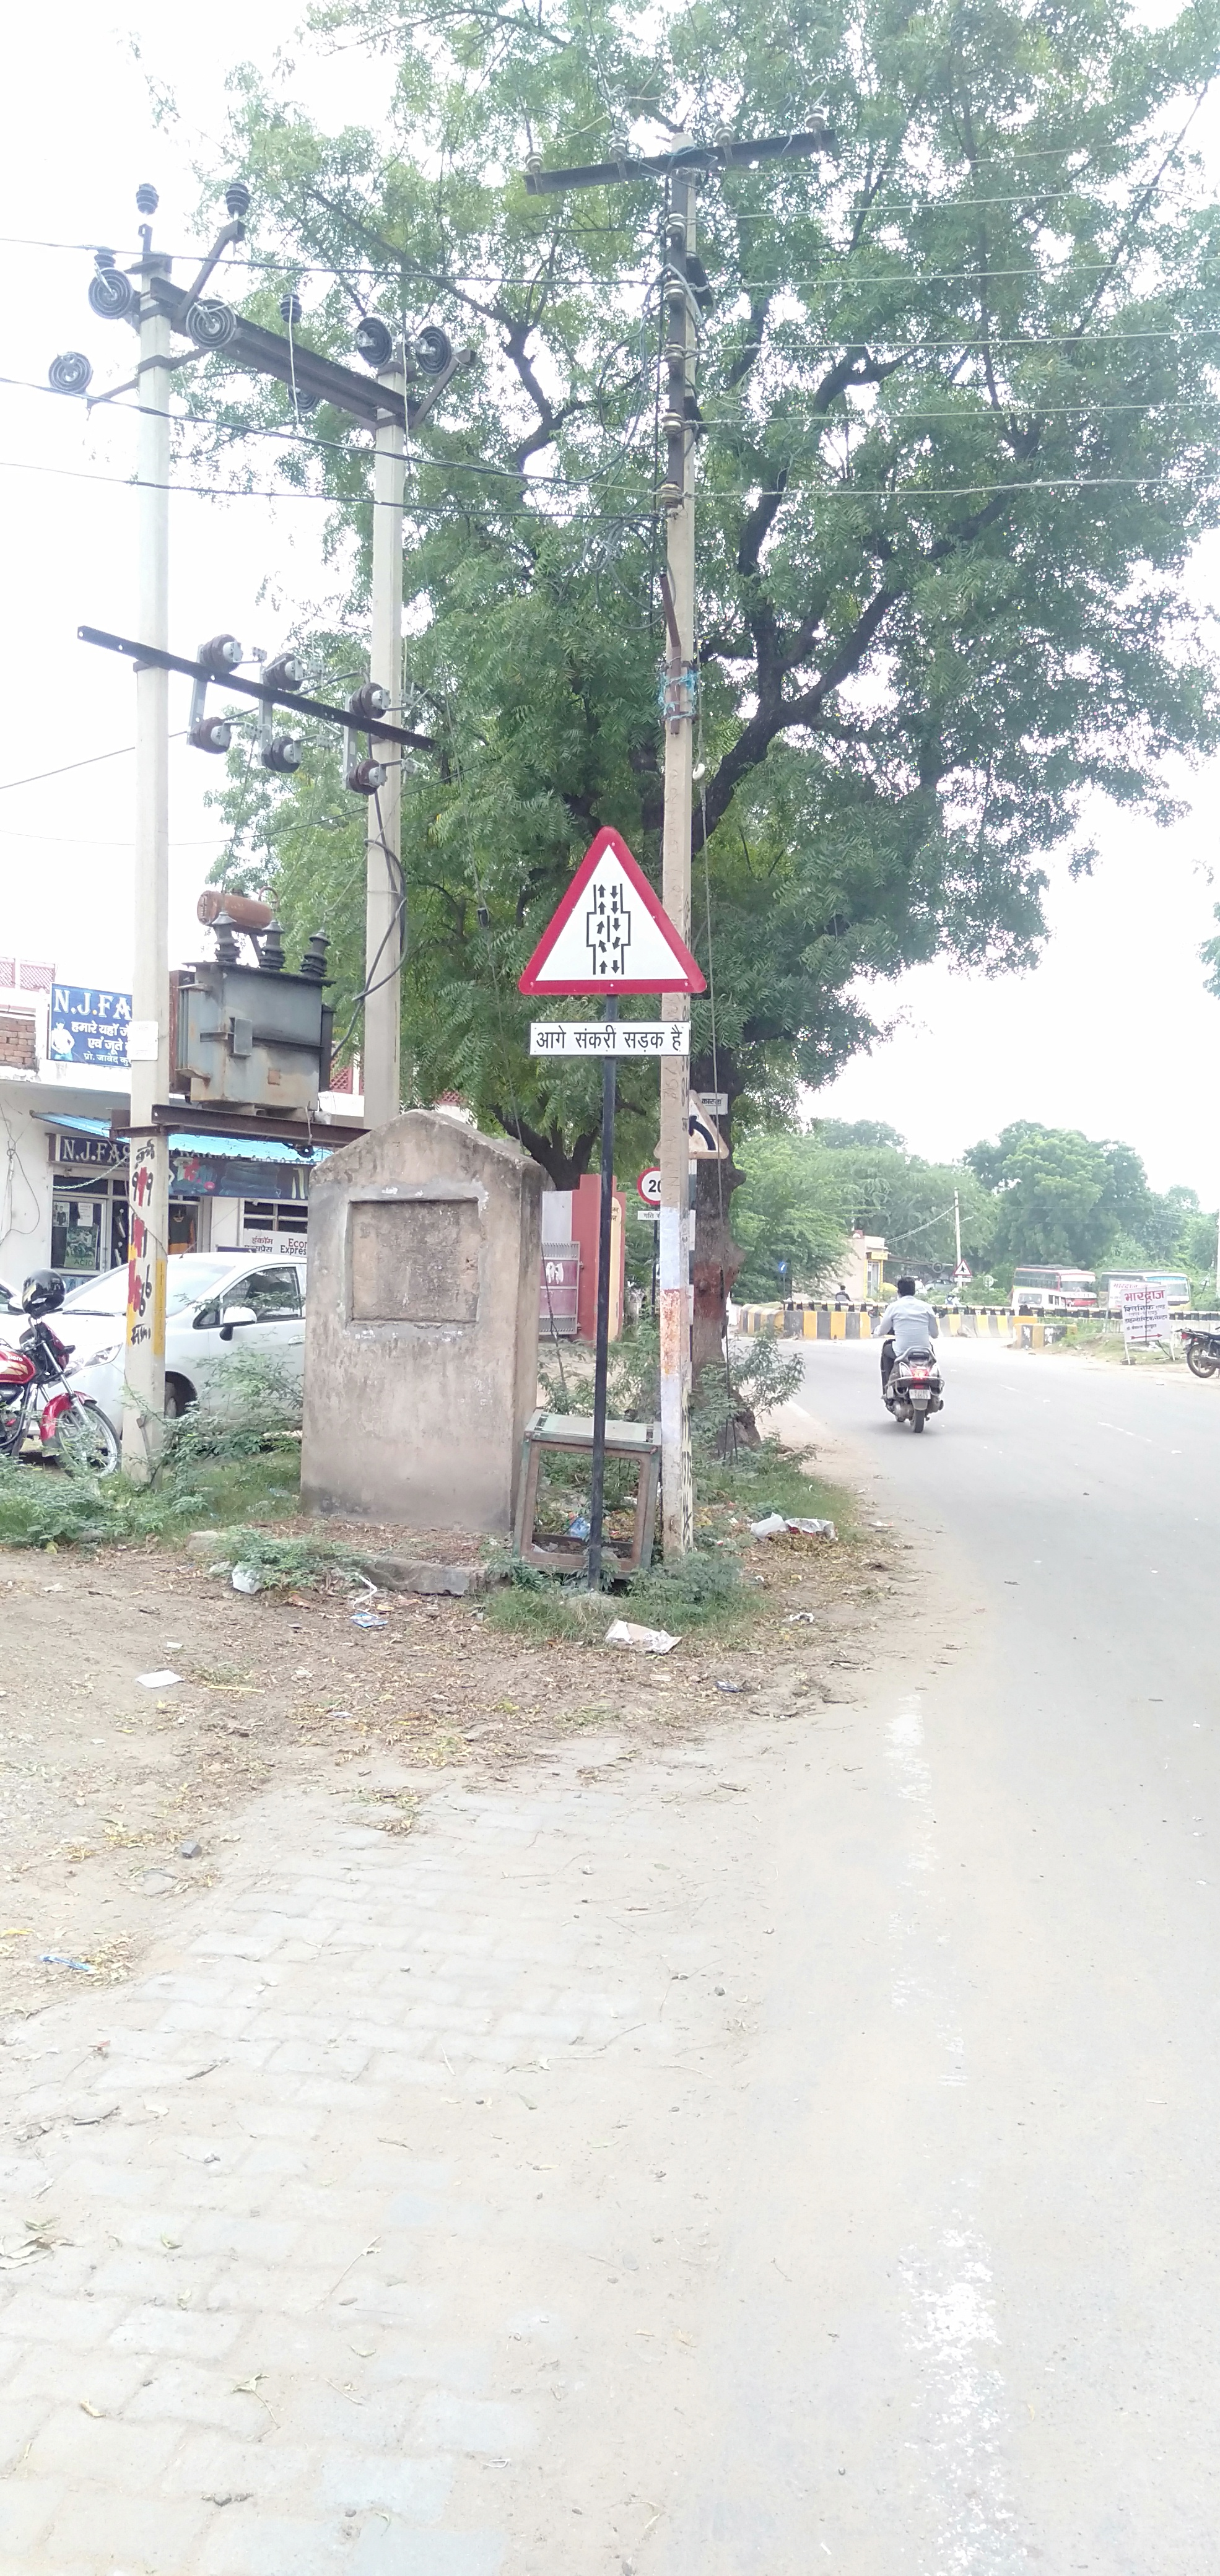traffic_sign: (517, 825, 706, 999)
